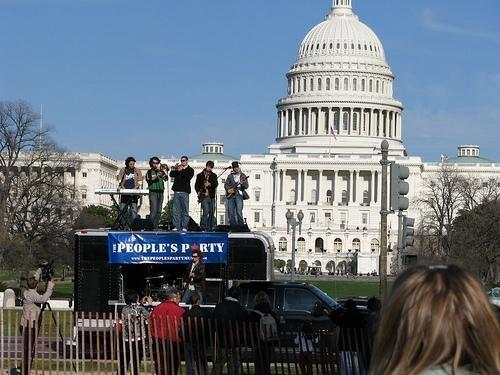car: (335, 296, 371, 316), (485, 286, 500, 310)
truck: (227, 278, 341, 328)
